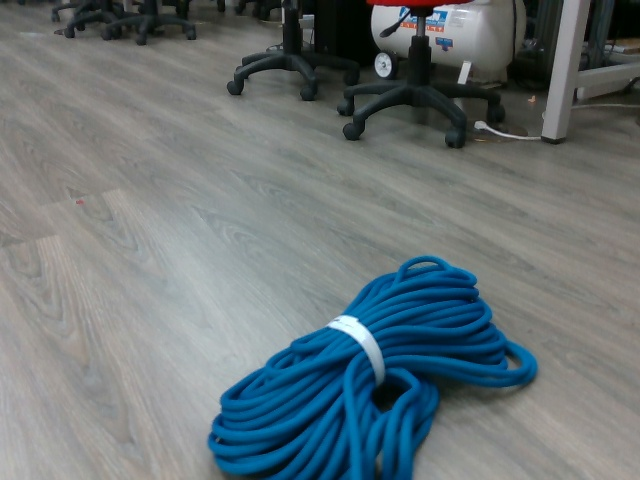rope: (207, 255, 540, 480)
